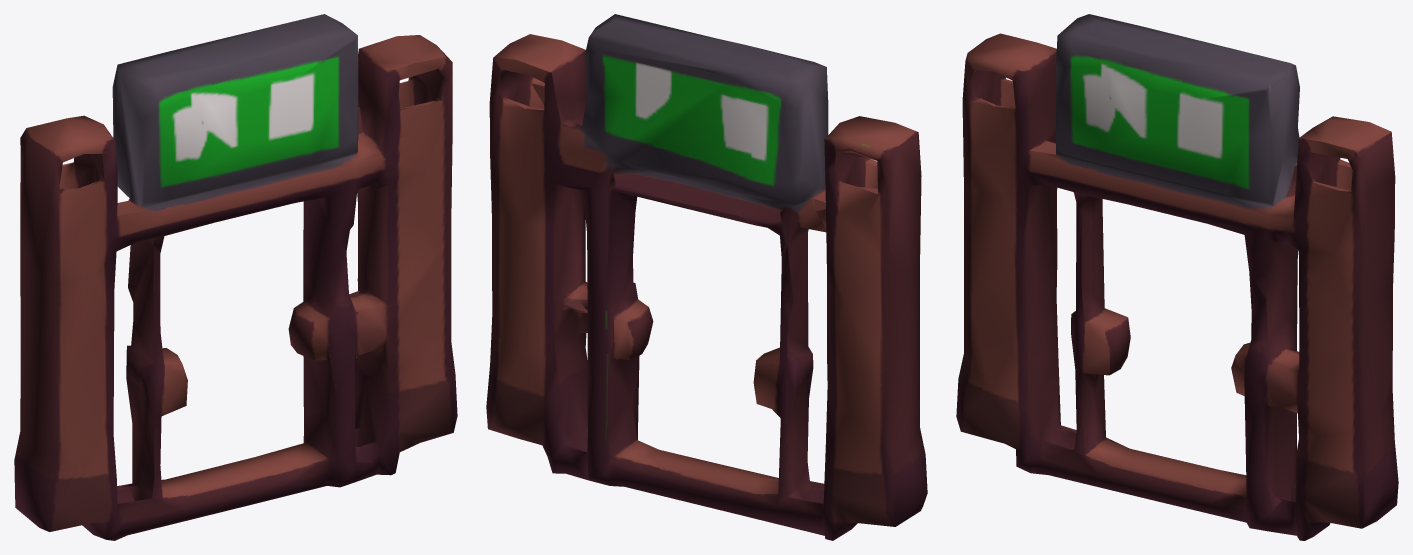
Rendered from getaway-door.glb.
3 views of the same model, side by side, from view 1: azimuth 30°, elevation 25°; view 2: azimuth 150°, elevation 25°; view 3: azimuth 330°, elevation 25° (orthographic).
Parts seen in each view (by area): view 1: geometry_0.001; view 2: geometry_0.001; view 3: geometry_0.001.
Boxes of the visible parts, x1,y1,x2,y2 form: geometry_0.001: (14,14,457,540); geometry_0.001: (486,14,927,540); geometry_0.001: (956,14,1398,540).
Size of the model in its own units: 0.9543 by 0.9996 by 0.1429.
1 material, 1 textured.
